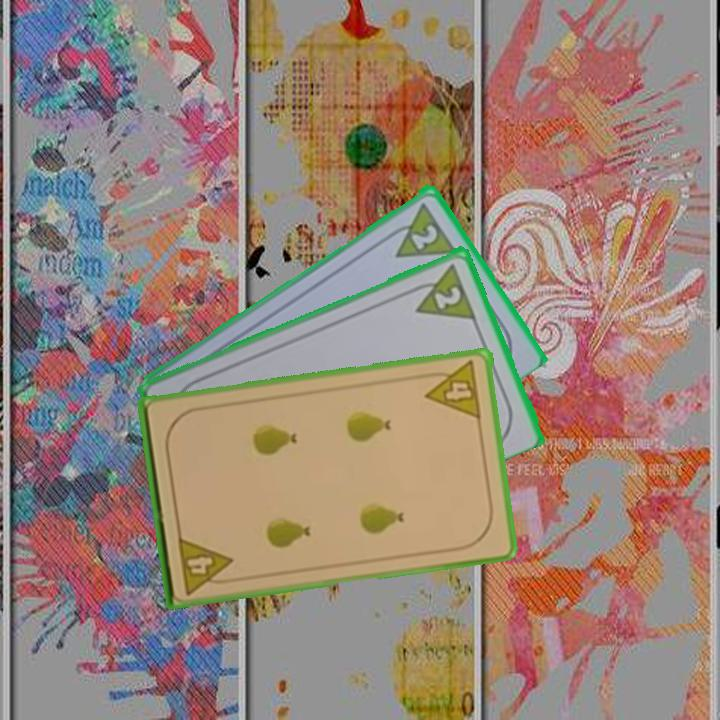2p: (405, 259, 479, 322), (407, 219, 441, 252)
4p: (421, 357, 485, 422), (174, 532, 237, 597)
